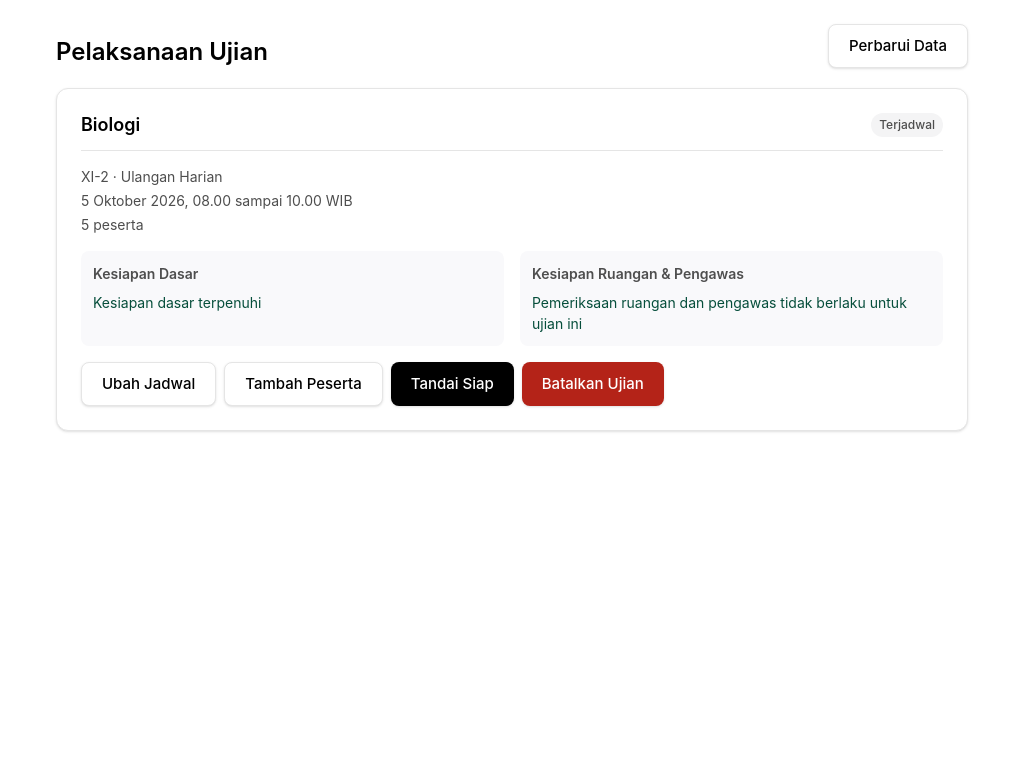
adding participants on the teacher screen › closes with the reason when the exam opened meanwhile
Click the button "Tambah Peserta".
click(303, 384)  # box [224, 362, 383, 406]
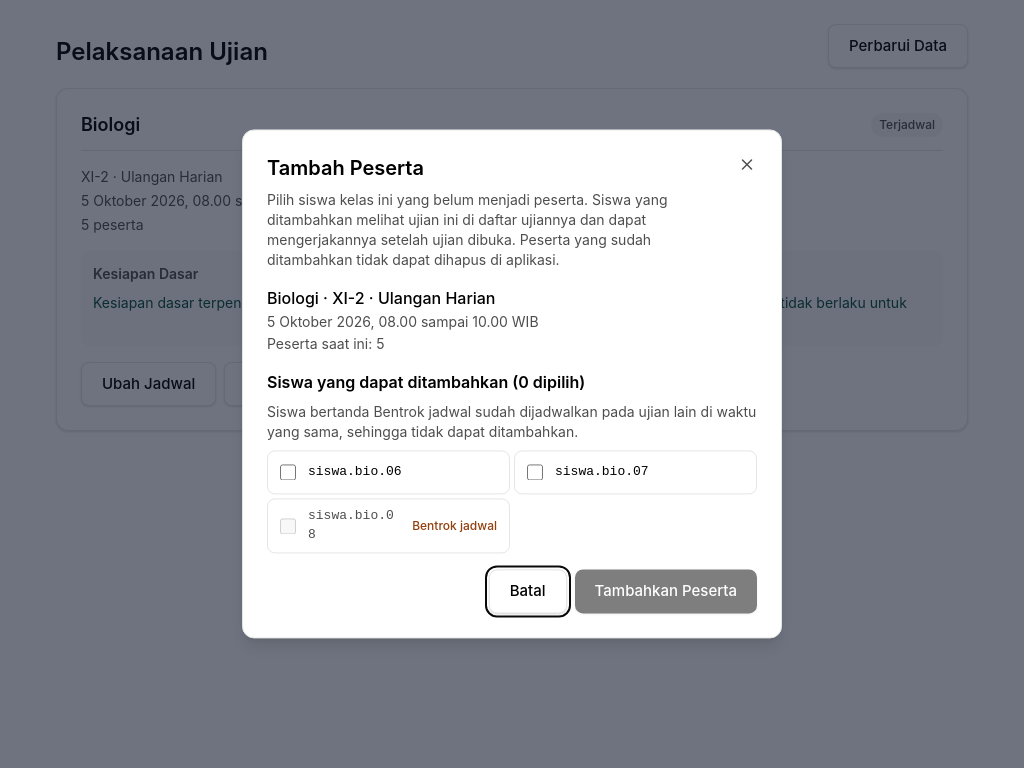
Click the checkbox labelled "siswa.bio.06".
click(288, 472)  # box [280, 464, 296, 480]
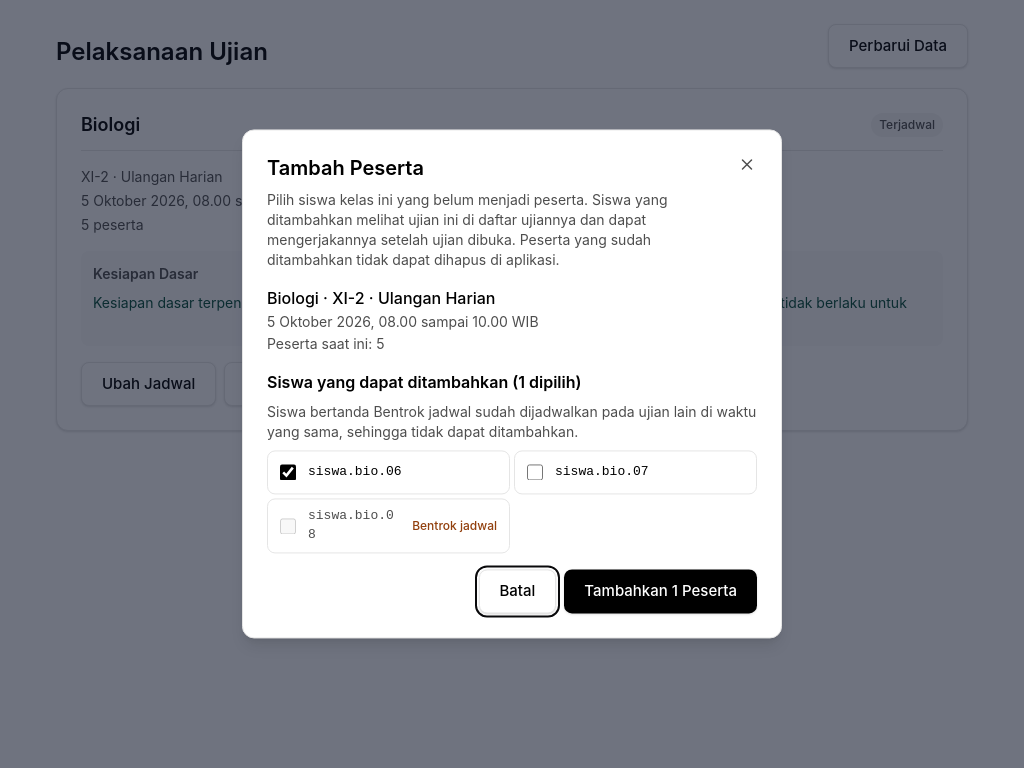
Click the button "Tambahkan 1 Peserta".
click(661, 592)  # box [564, 570, 757, 614]
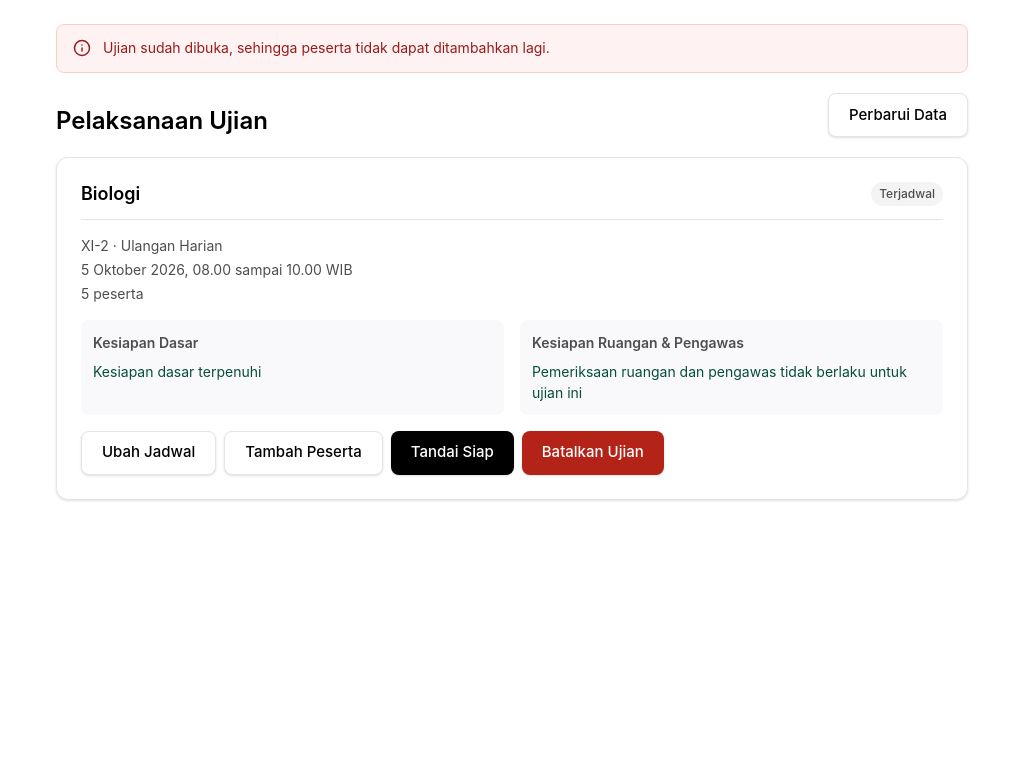
Check: the text "Ujian sudah dibuka, sehingga peserta tidak dapat ditambahkan lagi." is shown, box [103, 39, 550, 56]
Check: the dialog is gone
